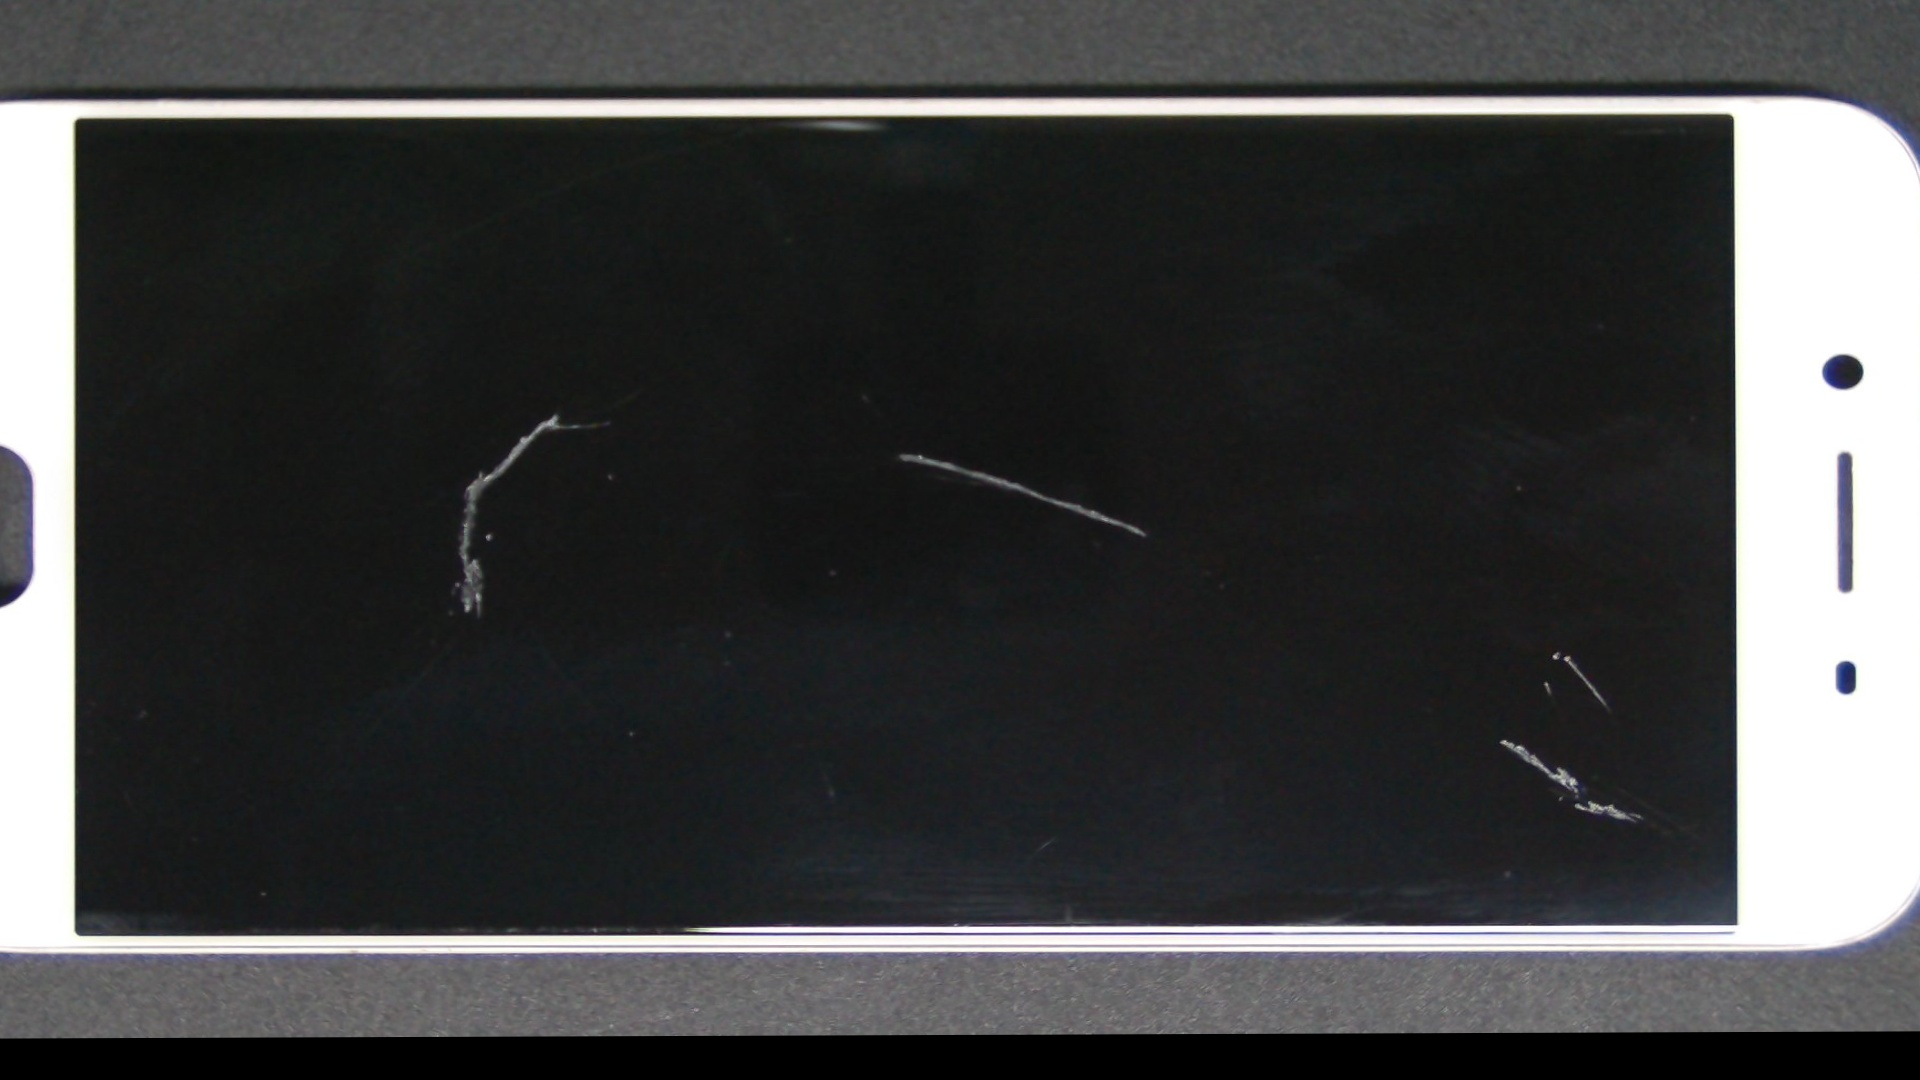oil: (694, 335, 1920, 1029), (673, 363, 1920, 1036), (700, 320, 1920, 986), (371, 222, 1427, 686), (165, 262, 810, 803), (199, 203, 911, 624)
